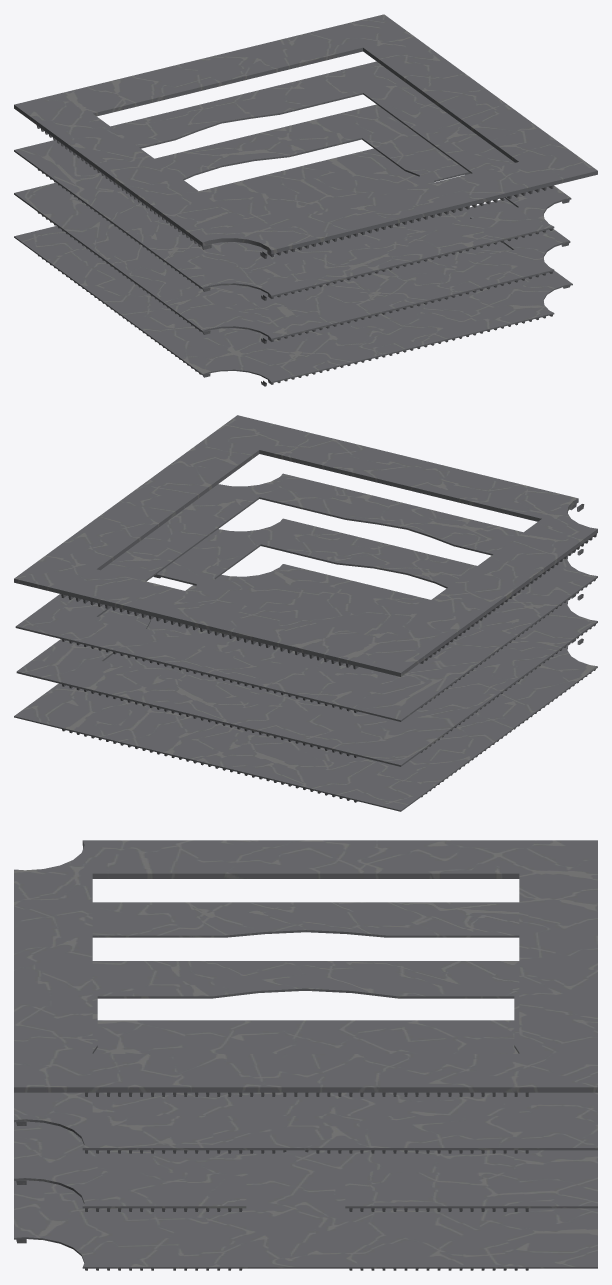
File: field_winter_centerground.fbx
3 renders of one model, top to bottom at view 1: azimuth 30°, elevation 25°; view 2: azimuth 150°, elevation 25°; view 3: azimuth 270°, elevation 25°, orthographic. The views are drawn at different scales.
Visible parts, largest first — view 1: field_winter_centerground; view 2: field_winter_centerground; view 3: field_winter_centerground.
Part boxes in pixels (x1,y1,x2,y2): field_winter_centerground: [14, 14, 597, 386]; field_winter_centerground: [14, 415, 597, 811]; field_winter_centerground: [14, 840, 597, 1270].
Bounding box in the file's own units: 2053 × 719 × 2053.
1 material, 1 textured.
